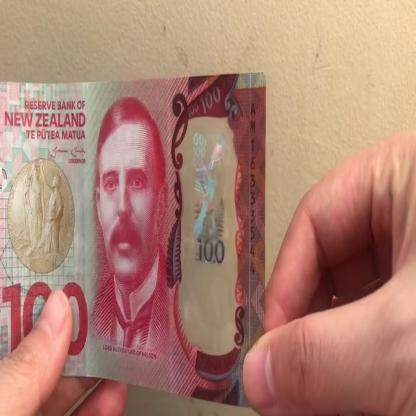100F: (190, 124, 232, 335)
